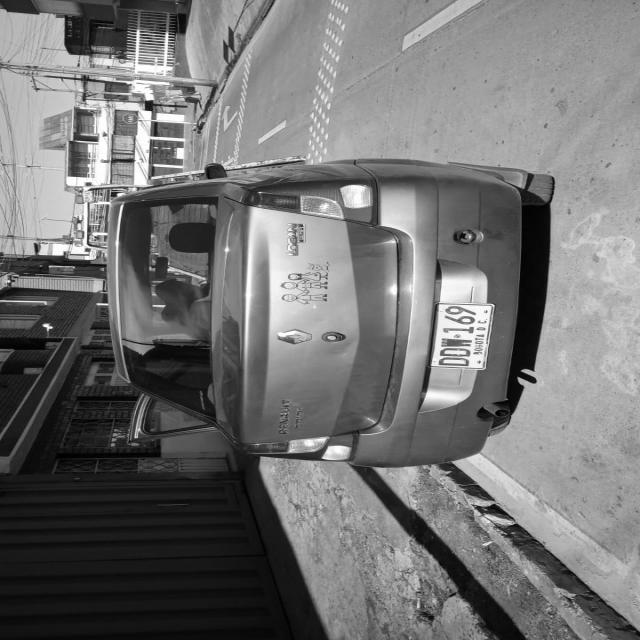plate: (430, 298, 496, 379)
